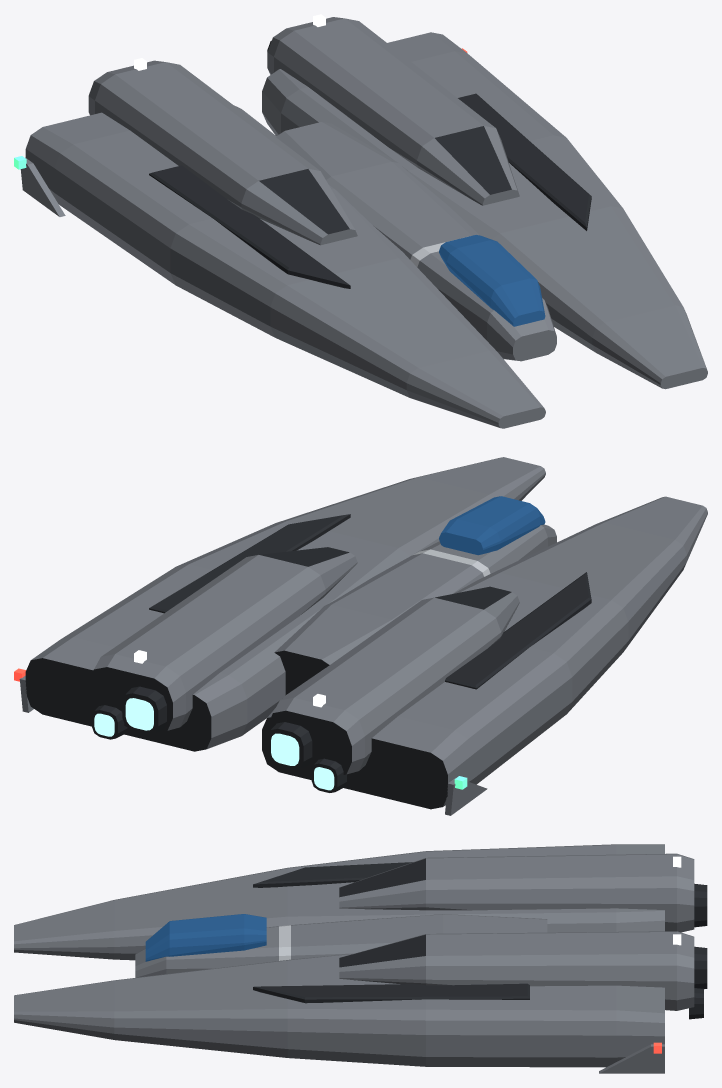
File: mamba.glb
3 renders of one model, top to bottom at view 1: azimuth 30°, elevation 25°; view 2: azimuth 150°, elevation 25°; view 3: azimuth 270°, elevation 25°, orthographic. The views are drawn at different scales.
Parts seen in each view (by area): view 1: mamba; view 2: mamba; view 3: mamba.
Boxes of the visible parts, bbox=[...] form: mamba: bbox=[14, 14, 707, 428]; mamba: bbox=[14, 457, 707, 815]; mamba: bbox=[14, 844, 707, 1073].
Size of the model in its own units: 53.15 by 14.14 by 80.18.
